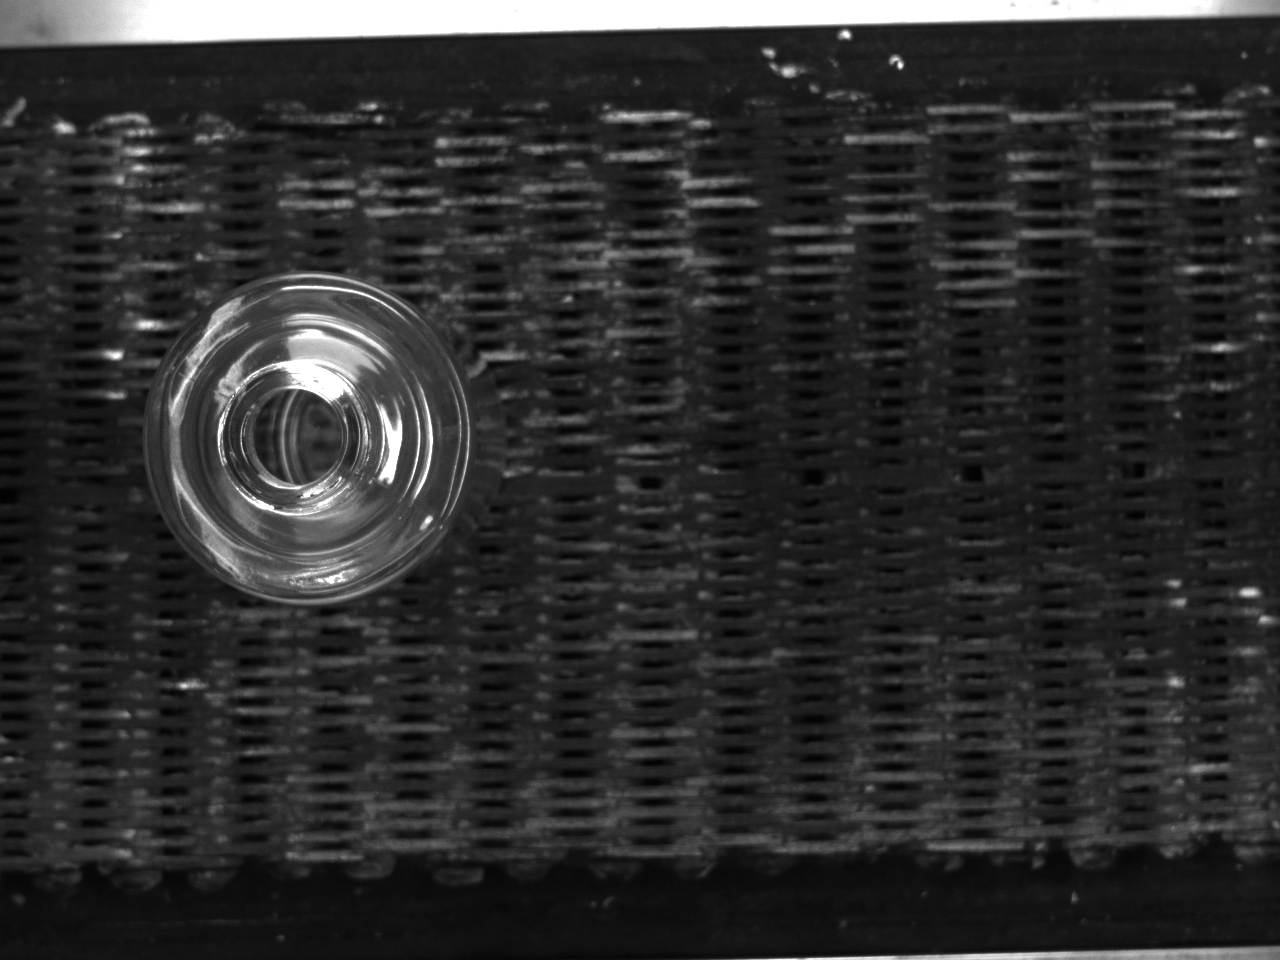bottleneck: (218, 363, 375, 516)
